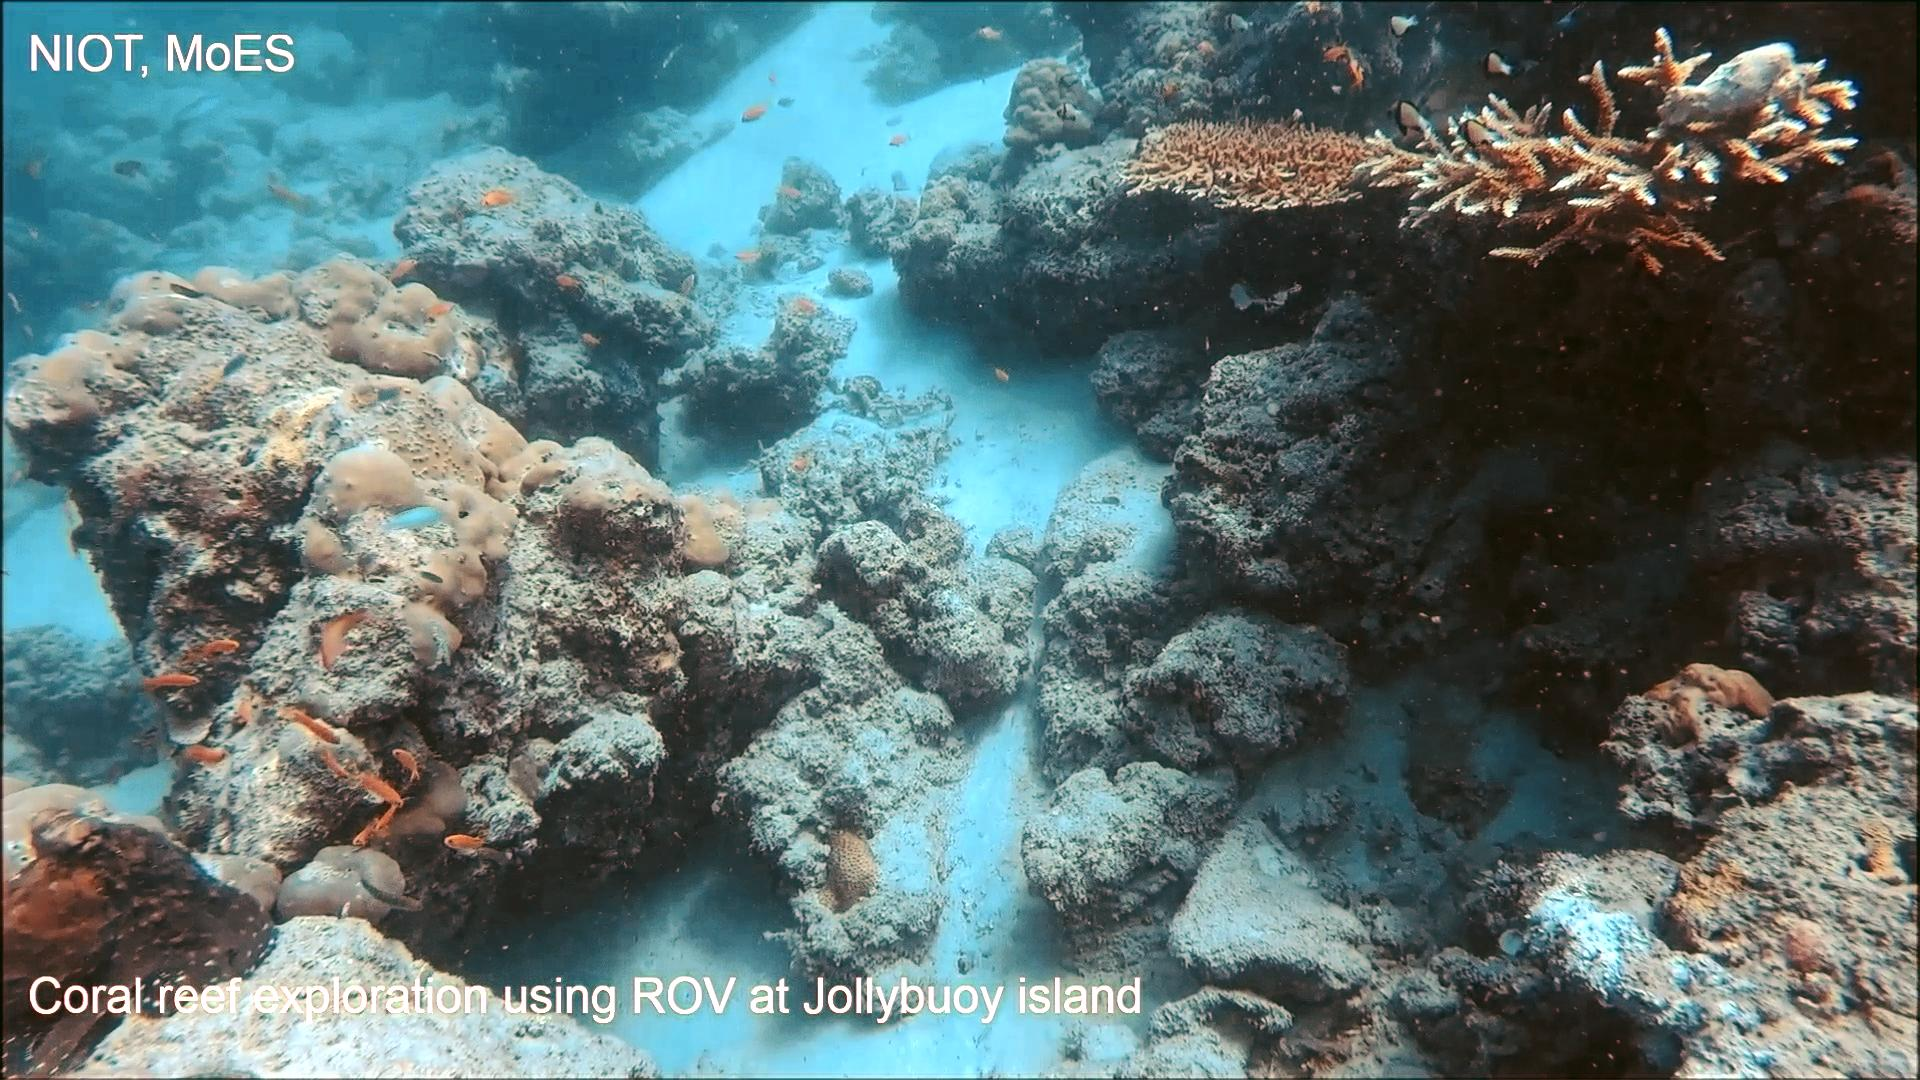Porites-Porites pukoensis: (294, 245, 575, 680)
